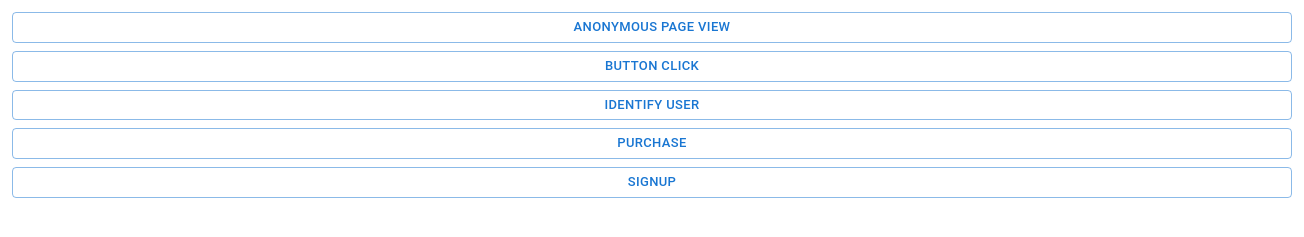
Test case: QuickFireButtons › feedback › displays success feedback after a successful send
Click the button "Anonymous Page View". click: (652,27)
box: [12,12,1292,43]
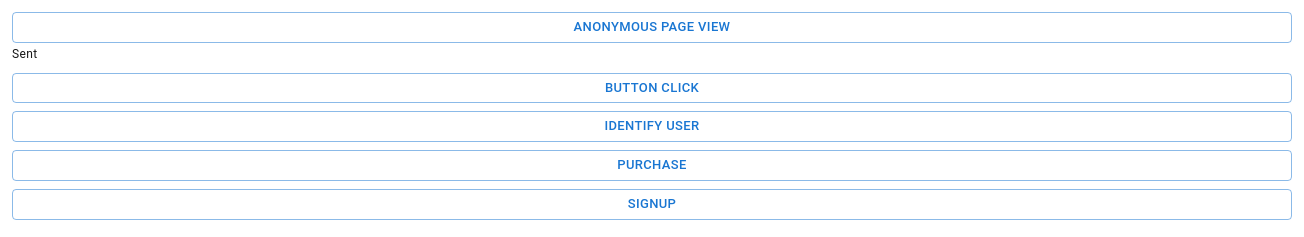
Expected: the text "Sent" is shown, [12,47,38,61]
